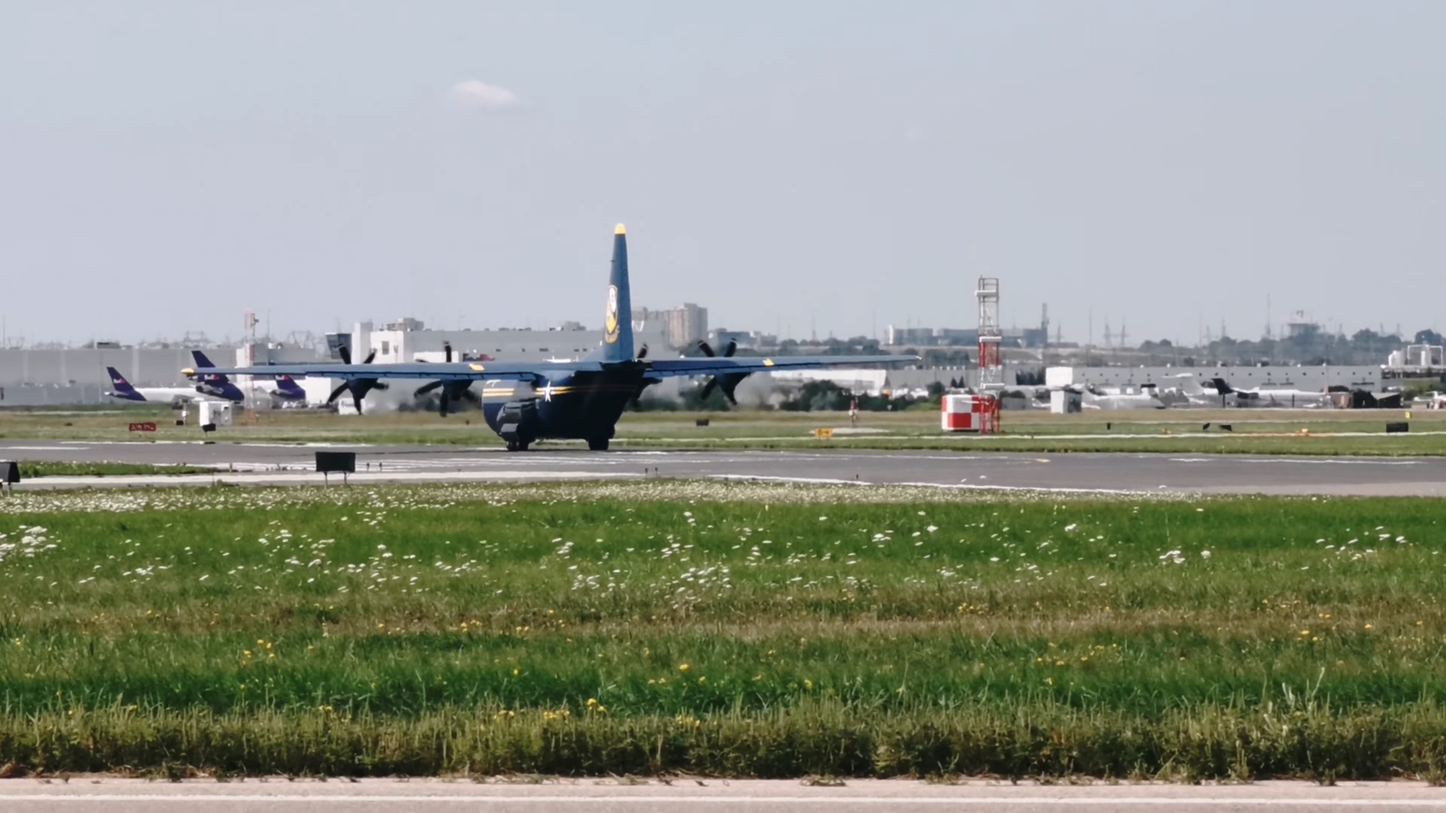airplane: (170, 223, 927, 461)
